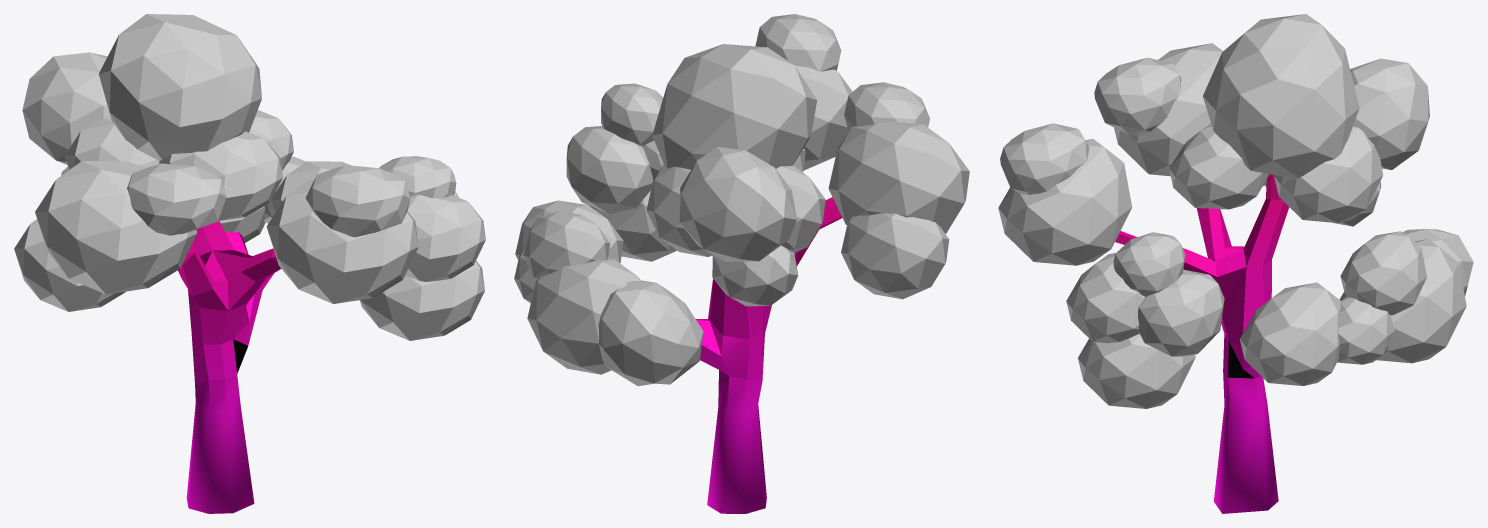
The model's file is Hon-Tree3.fbx.
3 renders of one model, left to right at view 1: azimuth 30°, elevation 25°; view 2: azimuth 150°, elevation 25°; view 3: azimuth 270°, elevation 25°, orthographic.
Parts seen in each view (by area): view 1: PA_TreeSet1_Pile3.038, PA_TreeSet1_Pile3.033; view 2: PA_TreeSet1_Pile3.038, PA_TreeSet1_Pile3.033; view 3: PA_TreeSet1_Pile3.038, PA_TreeSet1_Pile3.033.
Part boxes in pixels (x1,y1,x2,y2): PA_TreeSet1_Pile3.038: (14,14,485,340); PA_TreeSet1_Pile3.033: (178,221,281,513); PA_TreeSet1_Pile3.038: (514,14,969,386); PA_TreeSet1_Pile3.033: (696,197,842,513); PA_TreeSet1_Pile3.038: (998,14,1473,408); PA_TreeSet1_Pile3.033: (1115,174,1289,513).
Bounding box in the file's own units: 630 × 700 × 645.
